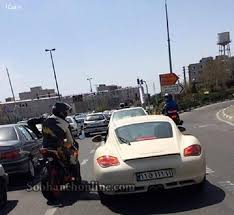car: (136, 168, 174, 184)
